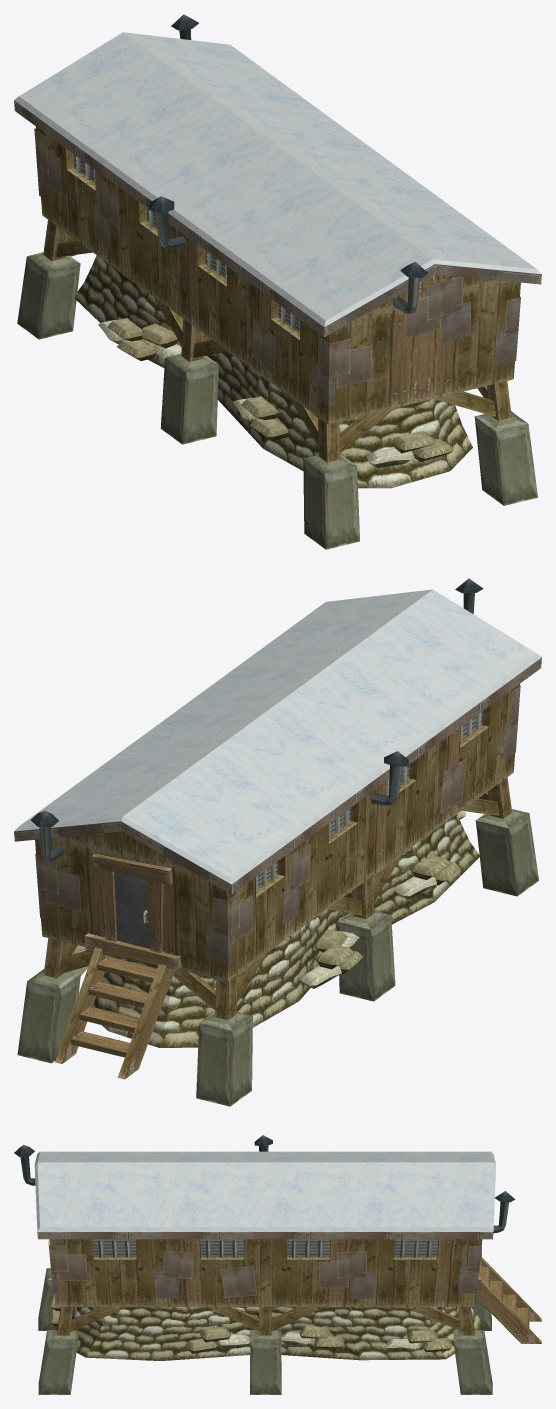
Rendered from C1SMGULAGBARRACKS_H.bgf.obj.
3 renders of one model, top to bottom at view 1: azimuth 30°, elevation 25°; view 2: azimuth 150°, elevation 25°; view 3: azimuth 270°, elevation 25°, orthographic. The views are drawn at different scales.
Visible parts, largest first — view 1: C1SMGULAGBARRACKS, PLATES, BAGS, PIPES, BARS; view 2: C1SMGULAGBARRACKS, PLATES, BAGS, PIPES, BARS; view 3: C1SMGULAGBARRACKS, PLATES, BAGS, BARS, PIPES.
Part boxes in pixels (<box>): C1SMGULAGBARRACKS: <box>14,32,541,549</box>; PLATES: <box>34,128,520,406</box>; BAGS: <box>98,318,453,467</box>; PIPES: <box>149,14,428,313</box>; BARS: <box>76,156,299,335</box>; C1SMGULAGBARRACKS: <box>14,589,541,1106</box>; PLATES: <box>35,685,520,963</box>; BAGS: <box>71,811,465,988</box>; PIPES: <box>31,578,483,861</box>; BARS: <box>143,712,481,924</box>; C1SMGULAGBARRACKS: <box>34,1151,541,1394</box>; PLATES: <box>48,1241,481,1299</box>; BAGS: <box>48,1294,452,1353</box>; BARS: <box>98,1240,432,1257</box>; PIPES: <box>14,1135,514,1233</box>.
Size of the model in its own units: 9.52 by 10.51 by 24.83.
Materials: 11 (11 with a texture image).
